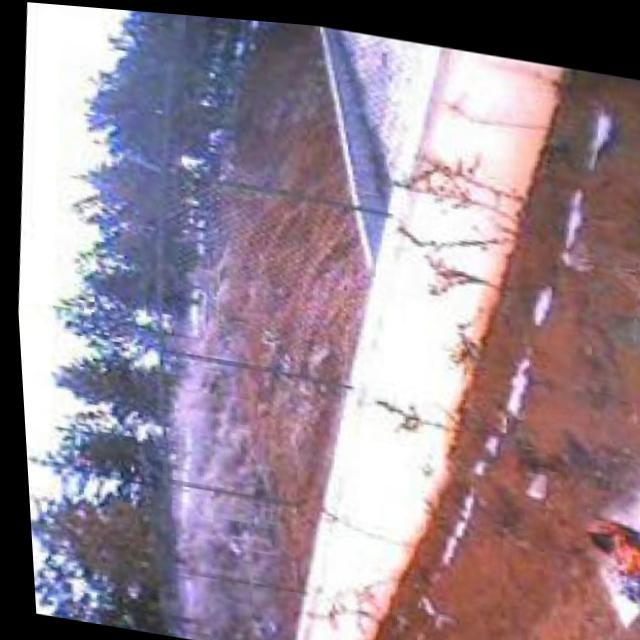fire: (570, 503, 640, 585)
